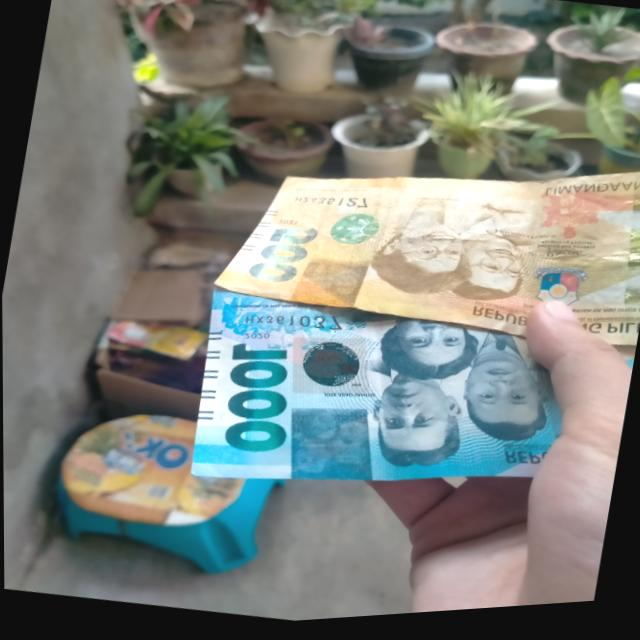concealed_value: (274, 394, 391, 499), (290, 251, 374, 319)
optically_variable_device: (292, 326, 383, 410), (314, 202, 390, 269)
security_thread: (608, 176, 640, 354)
value: (208, 325, 317, 465), (242, 209, 330, 296)
